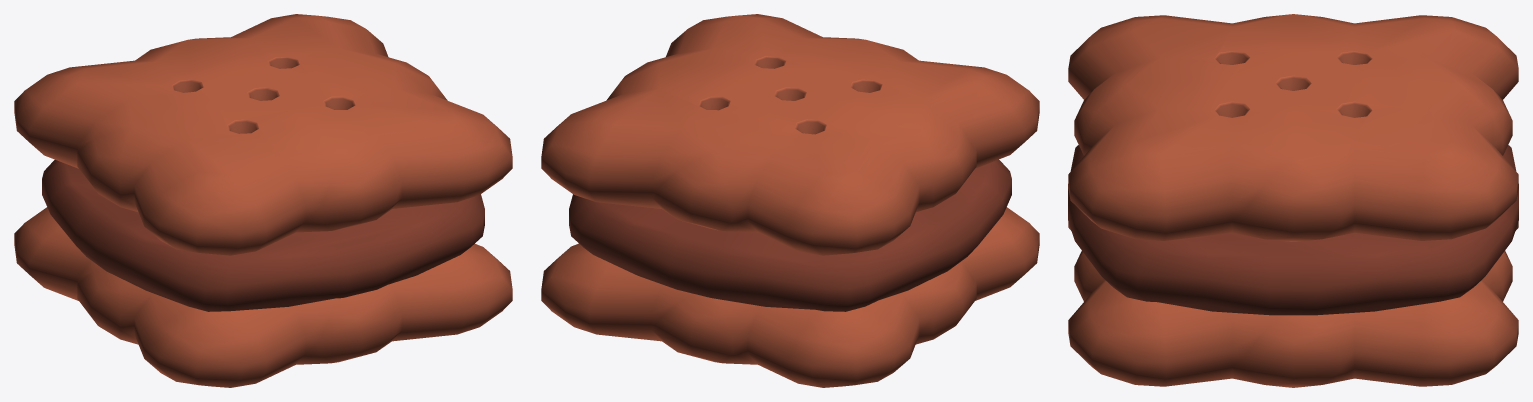
The model's file is Biscuits_V3_01.fbx.
The picture shows the model from 3 angles, left to right: view 1: azimuth 30°, elevation 25°; view 2: azimuth 150°, elevation 25°; view 3: azimuth 270°, elevation 25°; orthographic projection. The views are drawn at different scales.
Visible parts, largest first — view 1: Biscuits_V3_01; view 2: Biscuits_V3_01; view 3: Biscuits_V3_01.
Part boxes in pixels (left/top/right/bottom): Biscuits_V3_01: left=14, top=14, right=512, bottom=387; Biscuits_V3_01: left=541, top=14, right=1039, bottom=387; Biscuits_V3_01: left=1068, top=14, right=1518, bottom=387.
Size of the model in its own units: 23.69 by 14.22 by 23.69.
